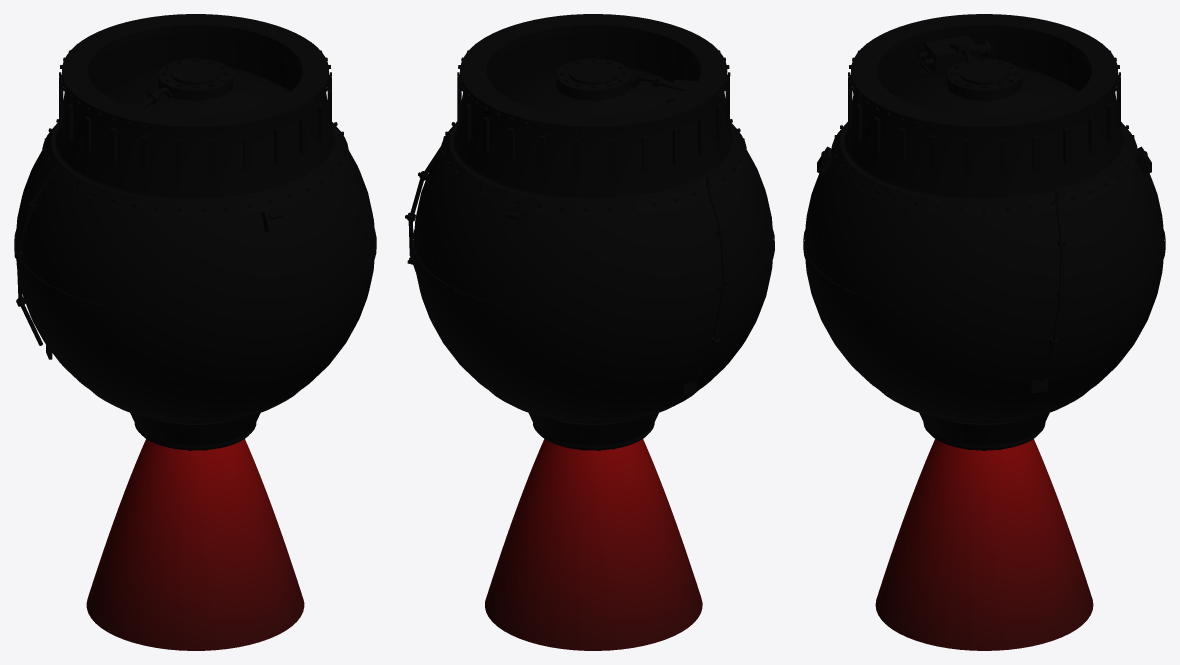
The model's file is eng_solid_kick_motor.fbx.
3 renders of one model, left to right at view 1: azimuth 30°, elevation 25°; view 2: azimuth 150°, elevation 25°; view 3: azimuth 270°, elevation 25°, orthographic.
Parts seen in each view (by area): view 1: eng_solid_kick_motor_LOD0; view 2: eng_solid_kick_motor_LOD0; view 3: eng_solid_kick_motor_LOD0.
Boxes of the visible parts, x1=… form: eng_solid_kick_motor_LOD0: x1=14, y1=14, x2=376, y2=650; eng_solid_kick_motor_LOD0: x1=405, y1=14, x2=774, y2=650; eng_solid_kick_motor_LOD0: x1=803, y1=14, x2=1165, y2=650.
Size of what is drawn, in the model's own units: 1.25 by 2.03 by 1.25.
